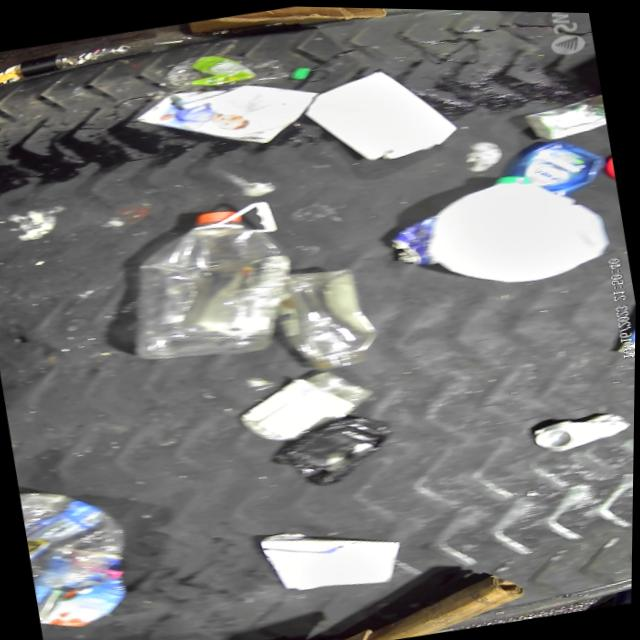can: (530, 401, 635, 455), (383, 211, 444, 272)
milk_jug: (414, 155, 618, 299)
non_white_jug: (112, 191, 308, 373), (504, 129, 611, 201)
plastic_bottle: (18, 473, 139, 592), (157, 34, 311, 103)
